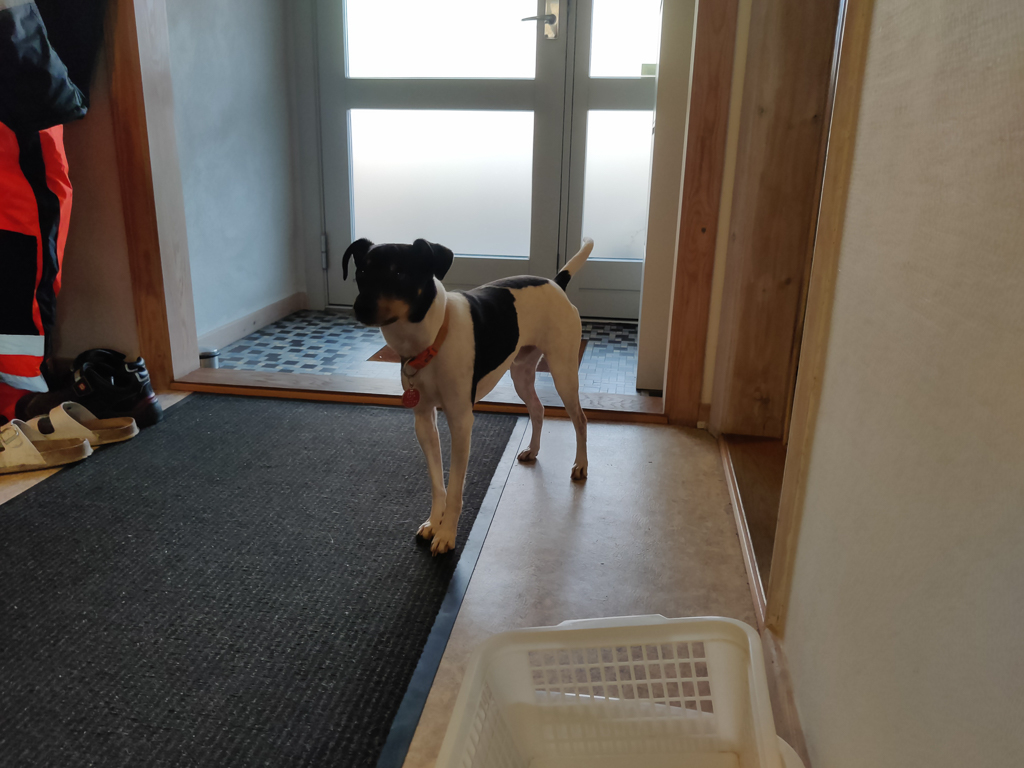Dog: (326, 211, 629, 569)
